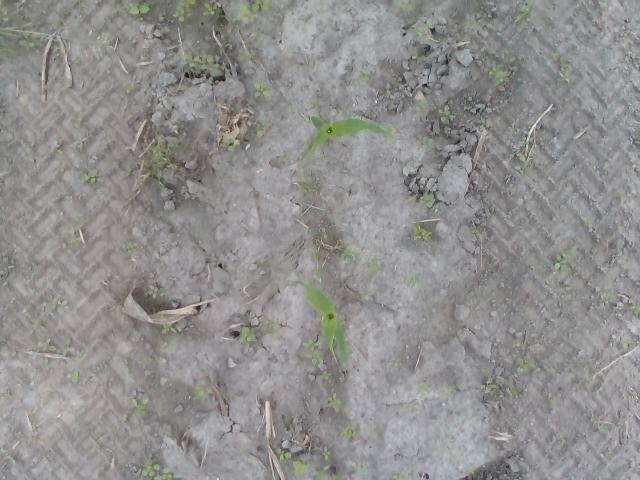Maize: (292, 280, 350, 368), (302, 114, 391, 162)
Weeds: (0, 23, 49, 56), (149, 137, 176, 191), (138, 452, 183, 480), (488, 48, 517, 85), (290, 162, 318, 200), (290, 455, 332, 480), (80, 38, 114, 66), (234, 0, 272, 23), (543, 247, 576, 273), (333, 240, 368, 264), (37, 338, 80, 357), (180, 50, 218, 71), (303, 339, 327, 368), (409, 222, 434, 248), (464, 14, 488, 40), (126, 394, 152, 417), (174, 0, 197, 25), (512, 0, 533, 26), (327, 394, 353, 414), (337, 422, 361, 442), (224, 135, 238, 168), (193, 375, 210, 401), (253, 80, 273, 102), (62, 227, 82, 248), (147, 285, 175, 300), (126, 2, 152, 18), (438, 103, 456, 124), (392, 467, 420, 480), (558, 63, 576, 83), (416, 22, 433, 43), (532, 214, 554, 229), (239, 326, 257, 344), (263, 319, 281, 337), (590, 416, 610, 432), (512, 359, 536, 372), (392, 0, 418, 12), (240, 47, 257, 65), (0, 447, 17, 465), (366, 256, 384, 273), (272, 446, 292, 461), (80, 169, 98, 185), (400, 272, 418, 288), (47, 297, 65, 313), (125, 79, 142, 95), (202, 0, 218, 17), (413, 95, 429, 112), (416, 191, 432, 208), (256, 118, 270, 137), (359, 286, 378, 300), (480, 380, 498, 394), (64, 369, 80, 384), (70, 110, 82, 130), (514, 152, 529, 168), (365, 423, 379, 440), (303, 249, 320, 263), (352, 462, 368, 476), (416, 382, 432, 396), (158, 336, 172, 352), (30, 318, 44, 334), (48, 140, 64, 154), (418, 136, 432, 152), (160, 321, 177, 334), (127, 241, 144, 254), (384, 356, 402, 368), (353, 70, 371, 82), (384, 88, 402, 100), (591, 286, 609, 298), (321, 445, 333, 462), (512, 339, 528, 351), (562, 278, 578, 290), (166, 118, 178, 134), (404, 404, 417, 418), (442, 384, 457, 396), (0, 6, 10, 24), (50, 52, 64, 64), (72, 52, 84, 66), (182, 82, 194, 96), (599, 158, 608, 176), (542, 398, 562, 406), (320, 225, 330, 241), (320, 370, 333, 382), (415, 49, 426, 63), (506, 386, 518, 398), (304, 53, 316, 65), (0, 392, 16, 401), (479, 119, 493, 129), (582, 214, 592, 228), (629, 304, 640, 316), (629, 159, 640, 170), (120, 168, 135, 176), (246, 32, 256, 44), (64, 192, 72, 206), (288, 280, 304, 287), (595, 0, 609, 8), (72, 142, 82, 153), (331, 473, 346, 480), (312, 272, 322, 282), (143, 357, 152, 368), (120, 359, 130, 368), (447, 448, 457, 456), (191, 192, 200, 200), (471, 228, 480, 236), (150, 383, 160, 389)
